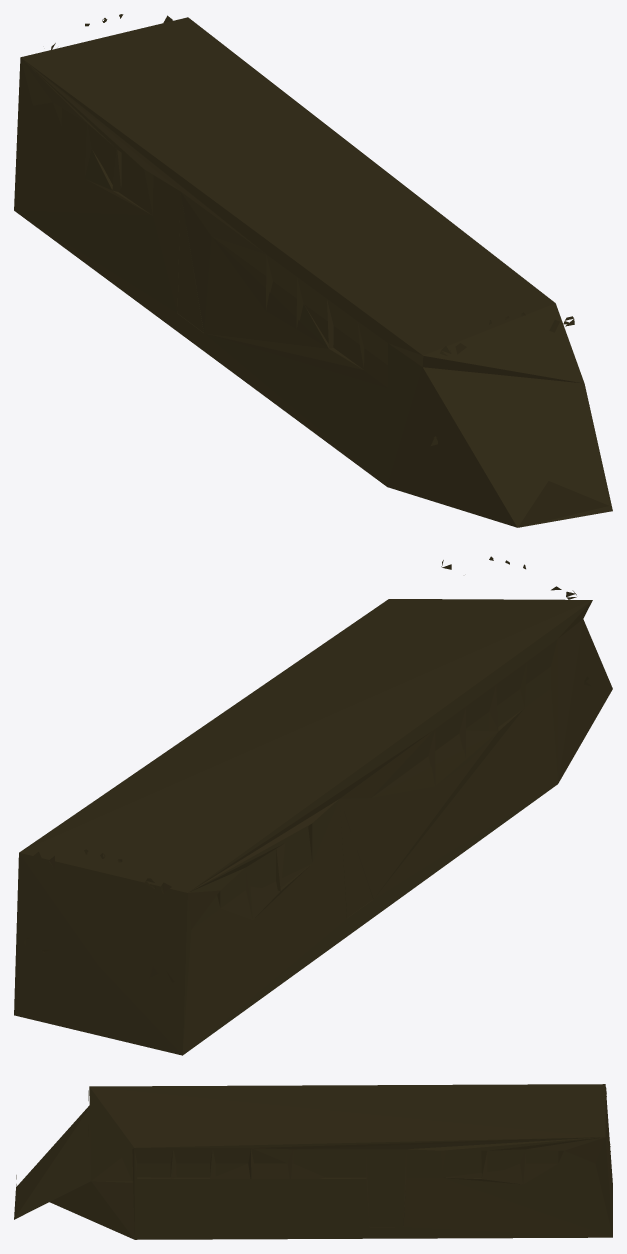
3 renders of one model, top to bottom at view 1: azimuth 30°, elevation 25°; view 2: azimuth 150°, elevation 25°; view 3: azimuth 270°, elevation 25°, orthographic. The views are drawn at different scales.
Visible parts, largest first — view 1: Object_4; view 2: Object_4; view 3: Object_4.
Boxes of the visible parts, x1,y1,x2,y2 form: Object_4: [14, 14, 612, 527]; Object_4: [14, 556, 612, 1055]; Object_4: [14, 1084, 612, 1239].
Size of the model in its own units: 2.07 by 2.12 by 9.94.
Materials: 1 (1 with a texture image).
